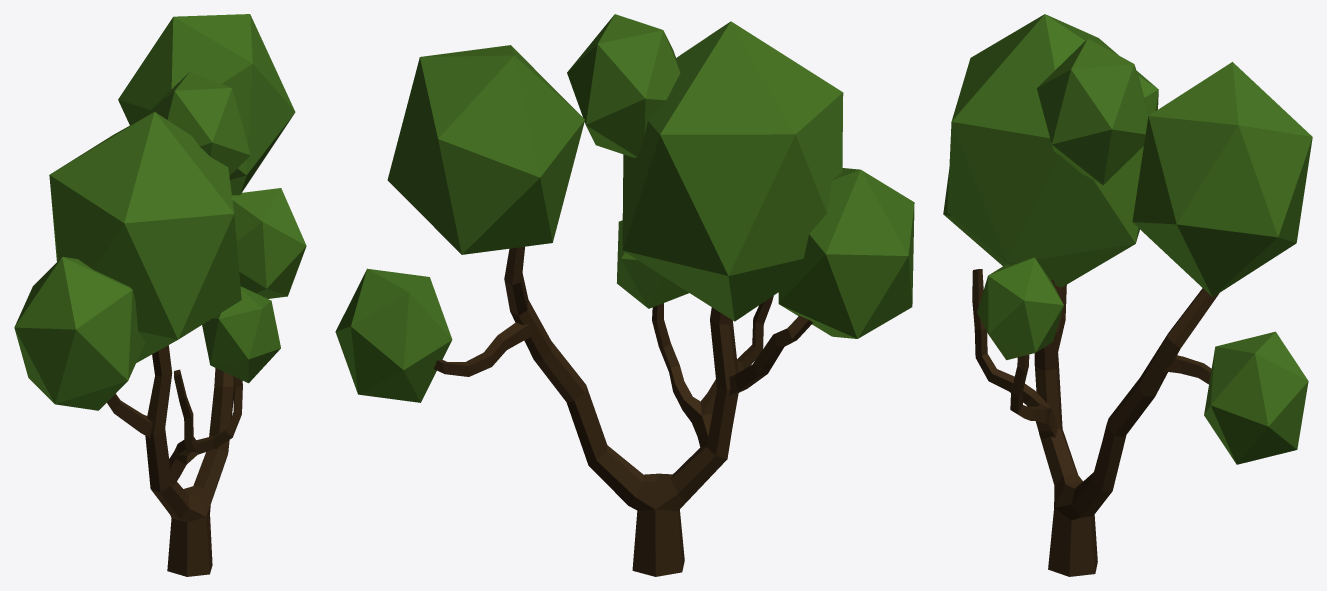
File: low_poly_tree.dae
3 renders of one model, left to right at view 1: azimuth 30°, elevation 25°; view 2: azimuth 150°, elevation 25°; view 3: azimuth 270°, elevation 25°, orthographic. The views are drawn at different scales.
Visible parts, largest first — view 1: Tree_lp_11; view 2: Tree_lp_11; view 3: Tree_lp_11.
Part boxes in pixels (x1,y1,x2,y2): Tree_lp_11: [14, 14, 306, 576]; Tree_lp_11: [335, 14, 914, 576]; Tree_lp_11: [943, 14, 1312, 576].
Size of the model in its own units: 27.98 by 33.18 by 20.8.
